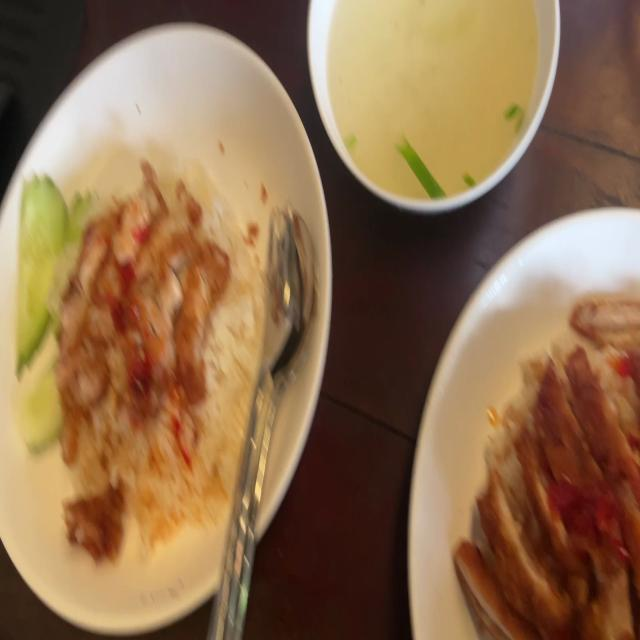chicken_rice: (17, 155, 256, 542), (463, 292, 640, 640)
cucumber: (14, 174, 66, 372), (20, 366, 67, 454), (64, 183, 98, 258)
fried_chicken: (460, 296, 640, 640), (62, 167, 217, 410), (58, 479, 139, 564)
